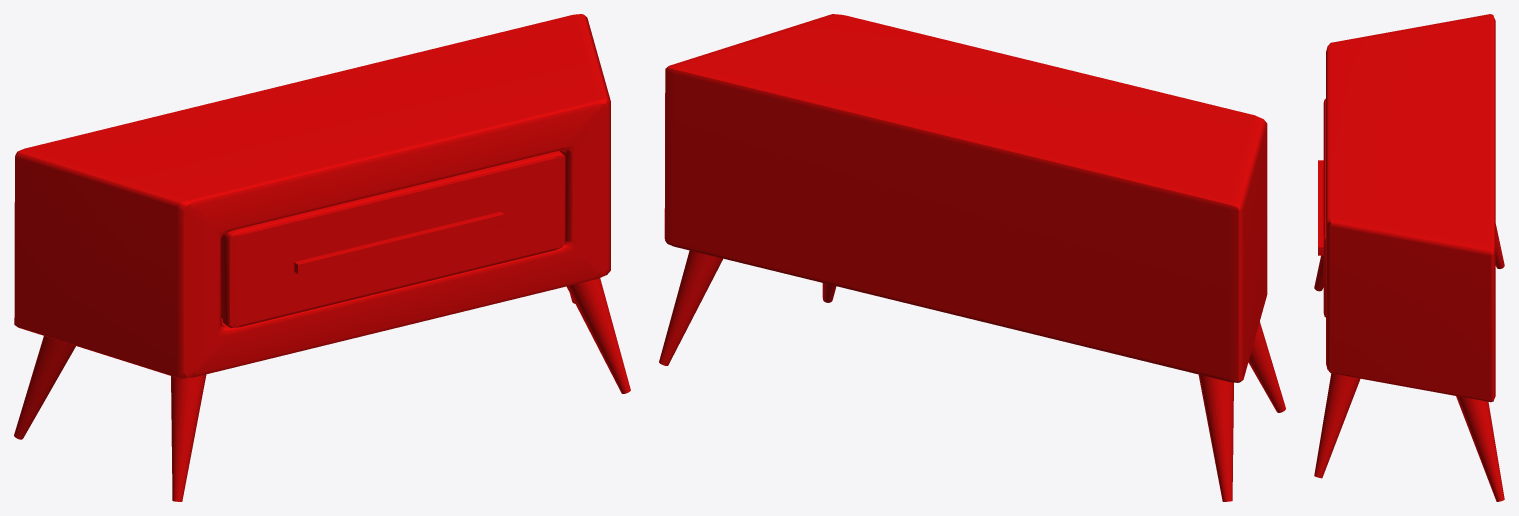
File: FurnitureB_msh.fbx
3 renders of one model, left to right at view 1: azimuth 30°, elevation 25°; view 2: azimuth 150°, elevation 25°; view 3: azimuth 270°, elevation 25°, orthographic. The views are drawn at different scales.
Parts seen in each view (by area): view 1: CaseB_msh, Drawer_B_msh; view 2: CaseB_msh; view 3: CaseB_msh, Drawer_B_msh.
Boxes of the visible parts, x1=… form: CaseB_msh: x1=14, y1=14, x2=630, y2=501; Drawer_B_msh: x1=221, y1=151, x2=565, y2=327; CaseB_msh: x1=659, y1=14, x2=1285, y2=501; CaseB_msh: x1=1314, y1=14, x2=1504, y2=501; Drawer_B_msh: x1=1318, y1=98, x2=1325, y2=317.
Size of the model in its own units: 168 by 82.11 by 56.12.
